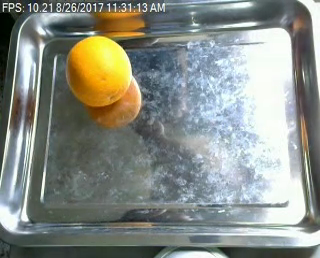Orange: (65, 36, 132, 107)
